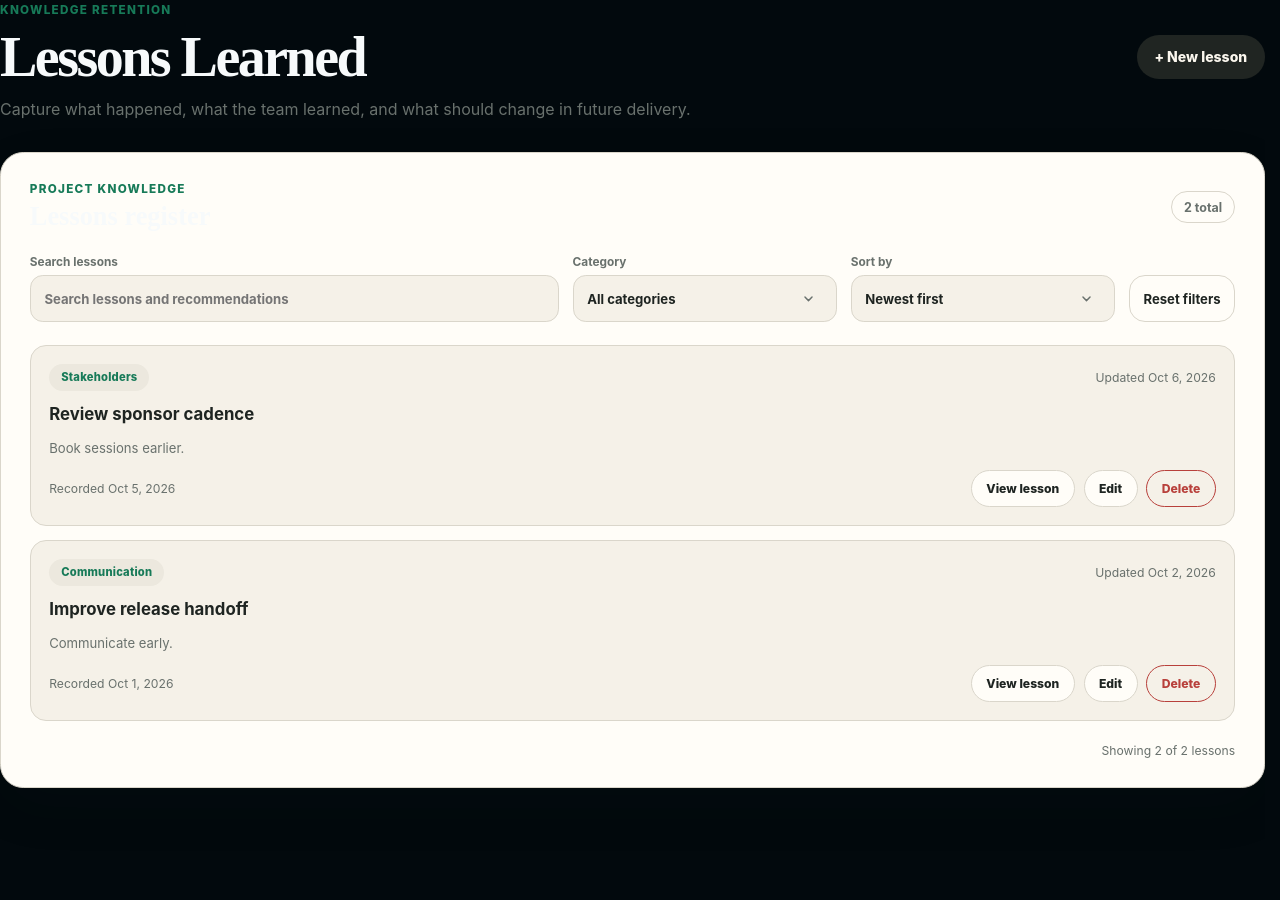
Lessons Learned project workspace › requires confirmation to delete and preserves other project records
This screenshot has width=1280, height=900.
Click the button "Delete" in the row of "Oct 1, 2026" at (1181,683), box [1146,665,1216,702]
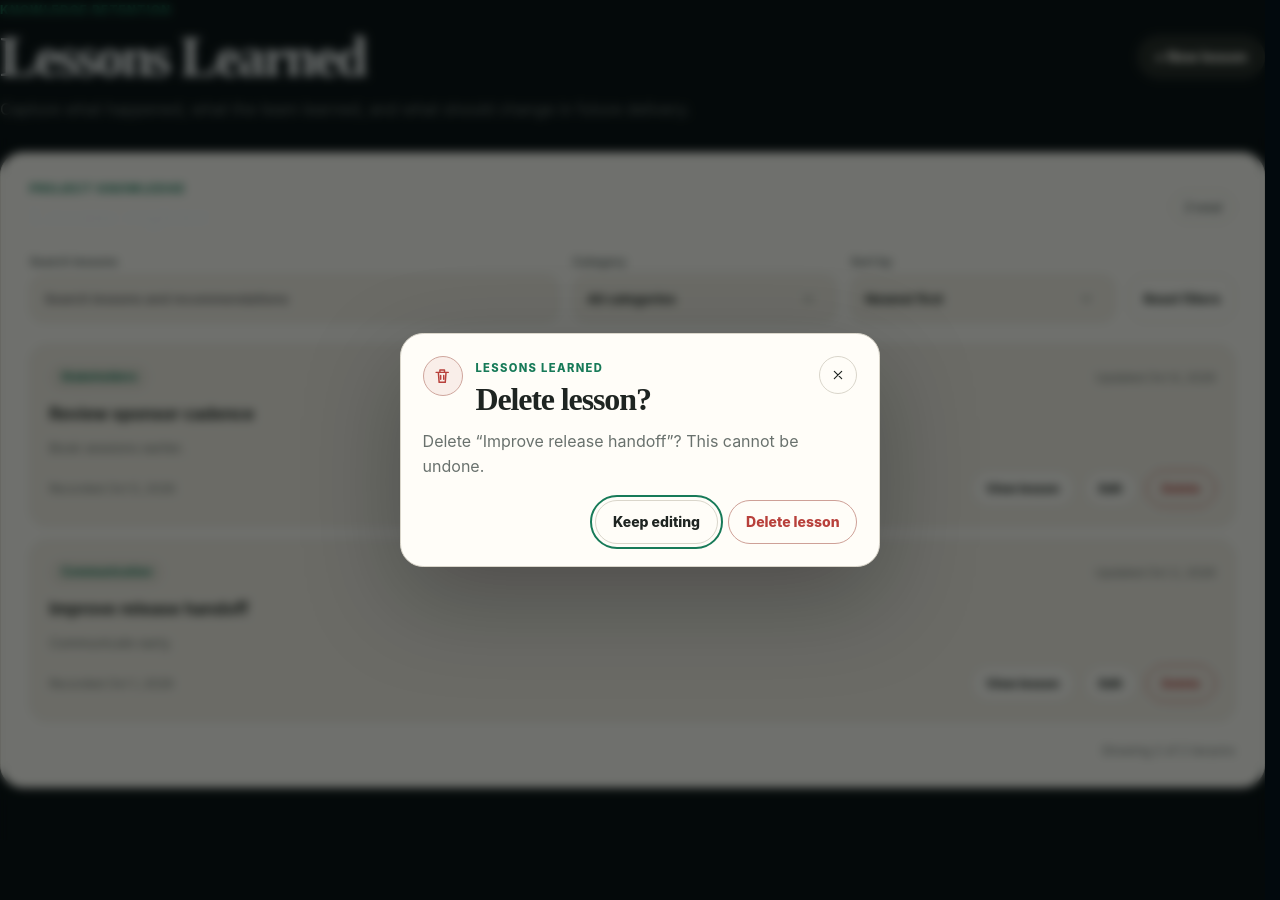
Now the dialog is shown, box [400,333,880,567]
Click the button "Keep editing" at (656,522), box [595,500,718,544]
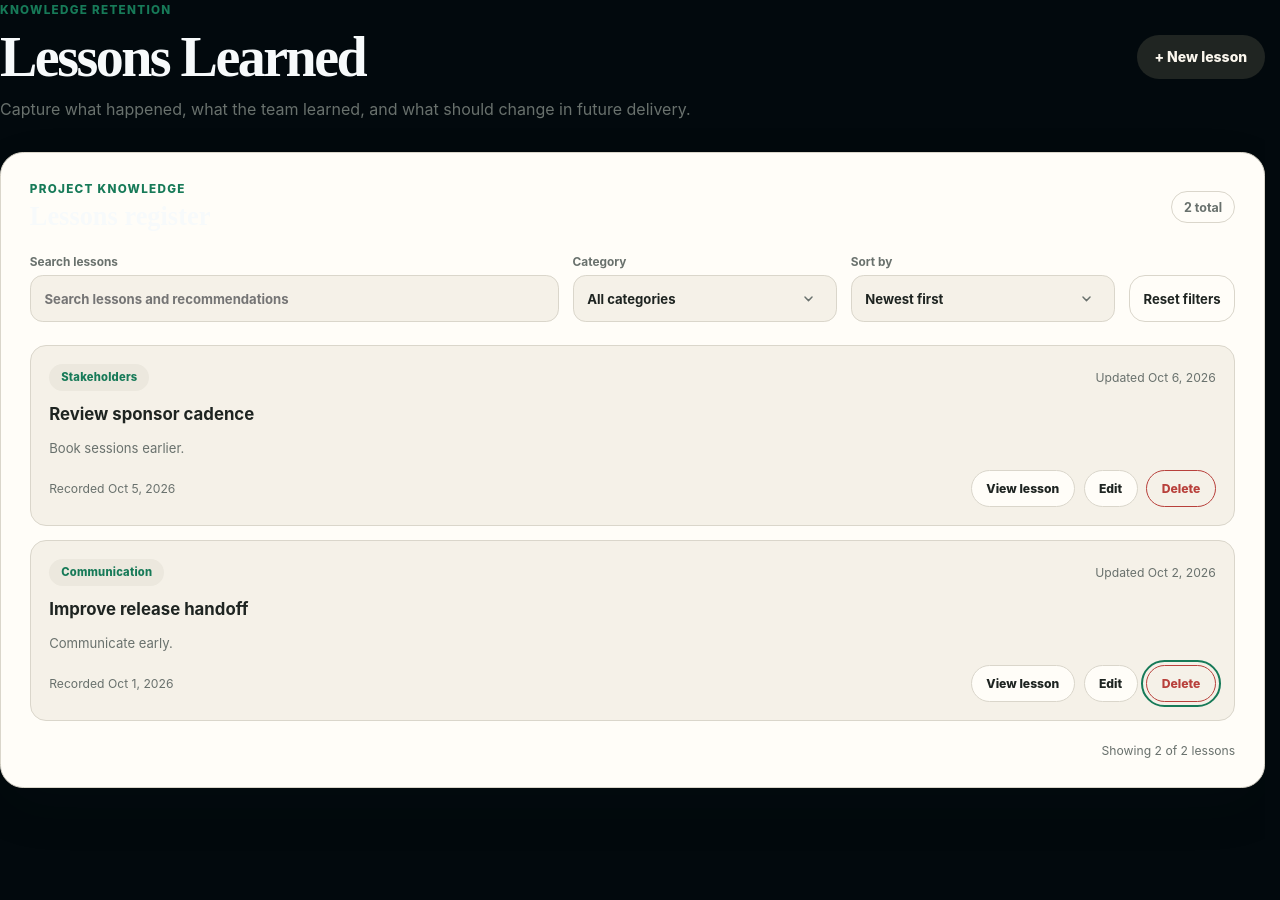
Click the button "Delete" in the row of "Oct 1, 2026" at (1181,683), box [1146,665,1216,702]
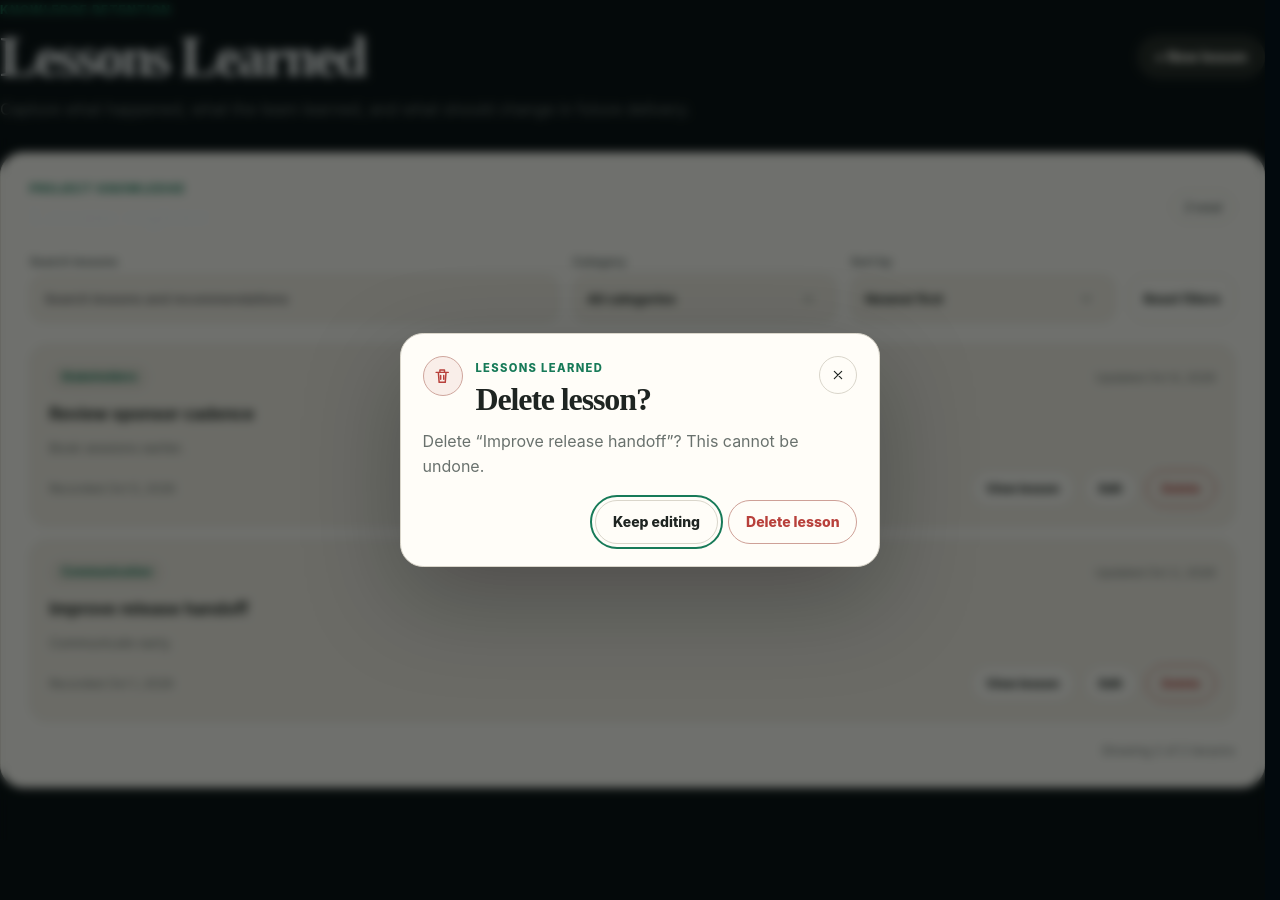
Click the button "Delete lesson" at (793,522), box [728,500,857,544]
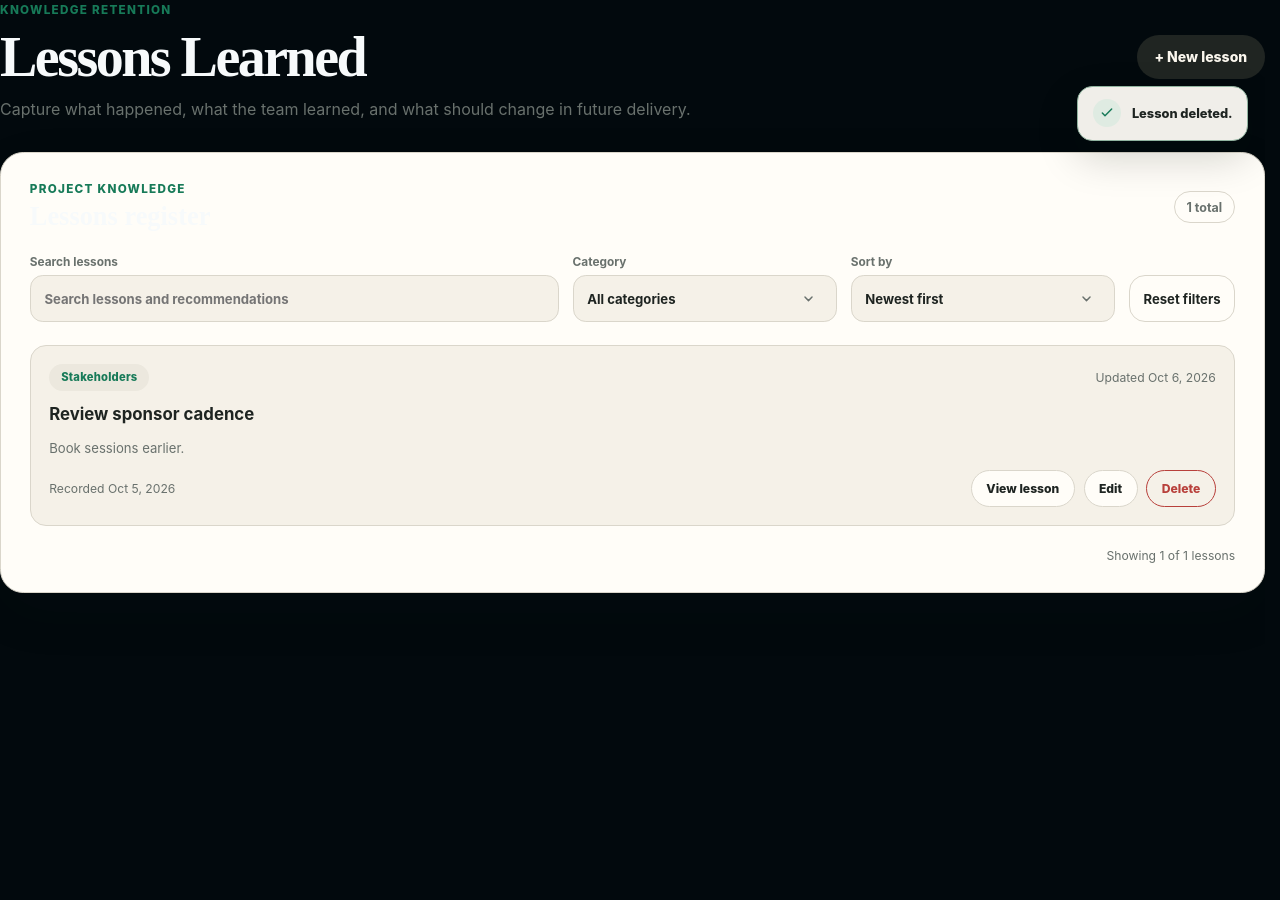
Now the link "Improve release handoff" is gone
